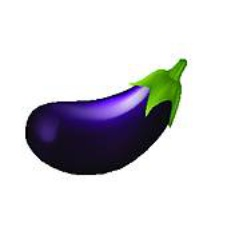eggplant: (28, 70, 181, 177)
